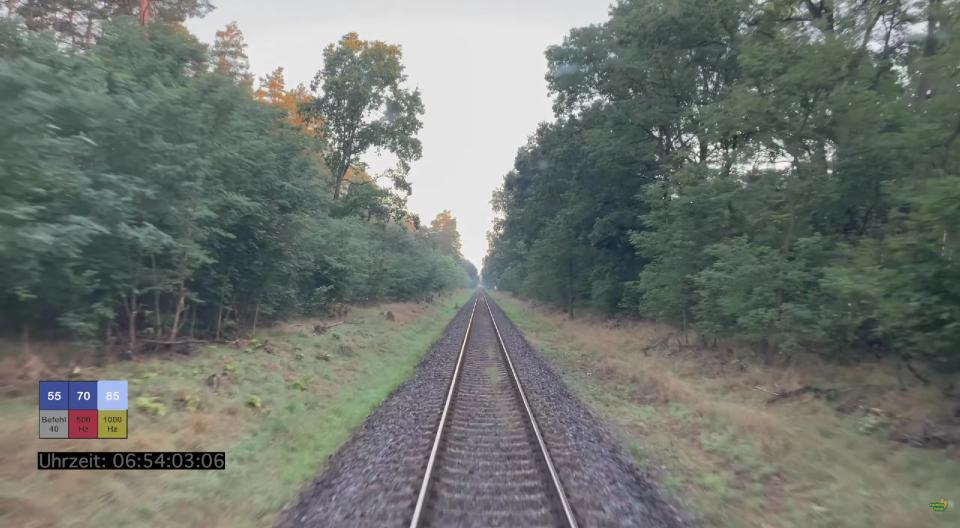Plant: (486, 368, 499, 385), (487, 349, 494, 360)
